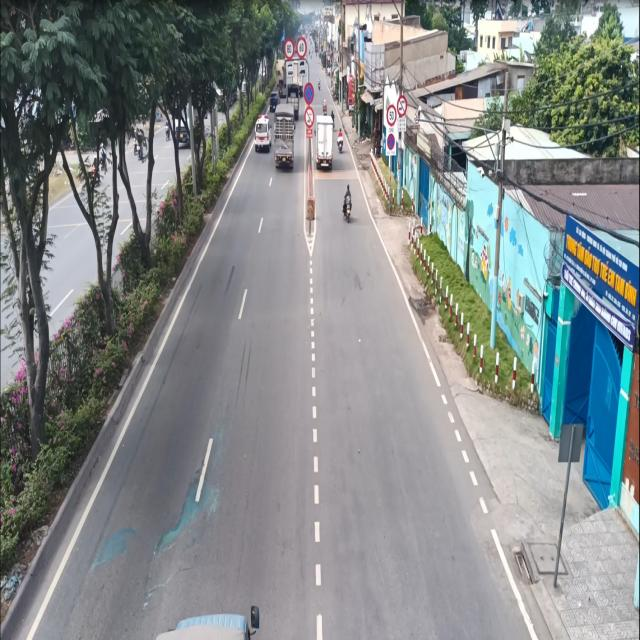car: (250, 104, 270, 155)
motor: (340, 183, 354, 223)
truck: (273, 99, 300, 177), (316, 114, 336, 176)
